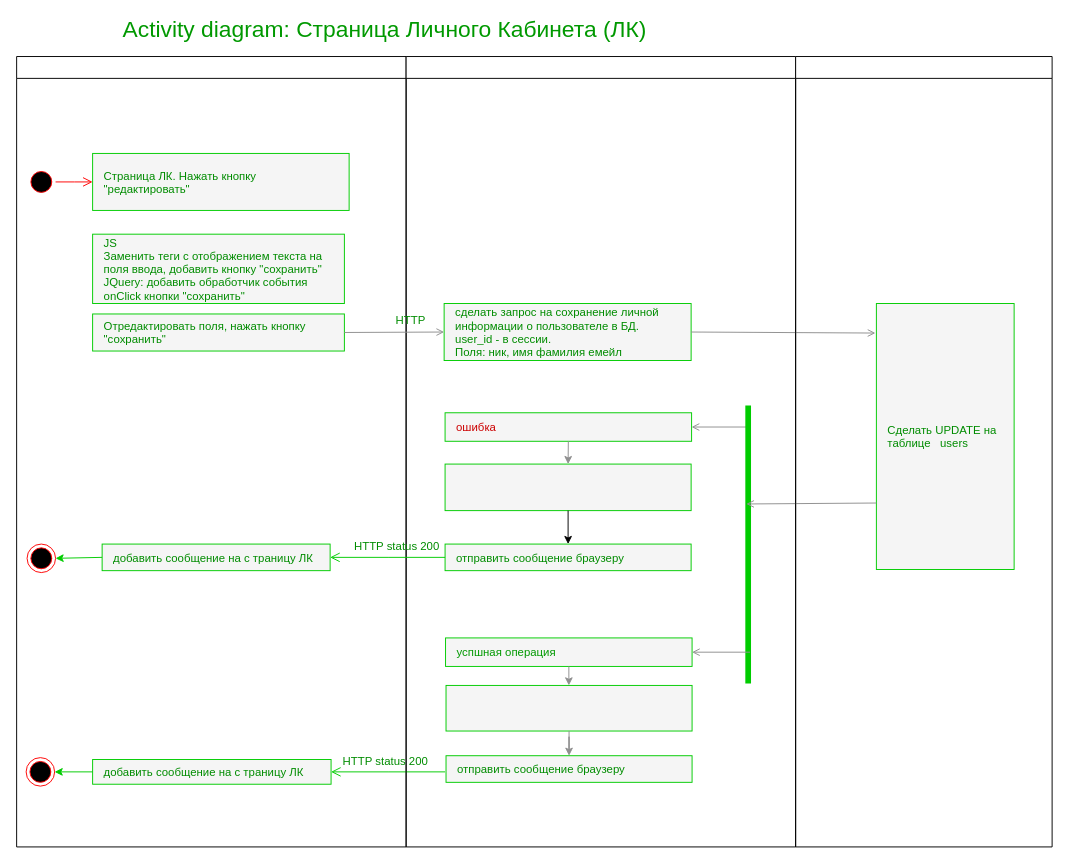
Image size: 1069x864. Some labels were removed from this diagram. The box of each missing label's shape, as (x1, y1, x2, y2) in pixels:
PostgreSQL: (795, 56, 1052, 847)
Tomcat: (405, 56, 796, 847)
Браузер: (16, 56, 406, 847)
сформировать сообщение об ошибке: (444, 463, 691, 511)
сформировать сообщение об успешной операции: (445, 684, 692, 731)
